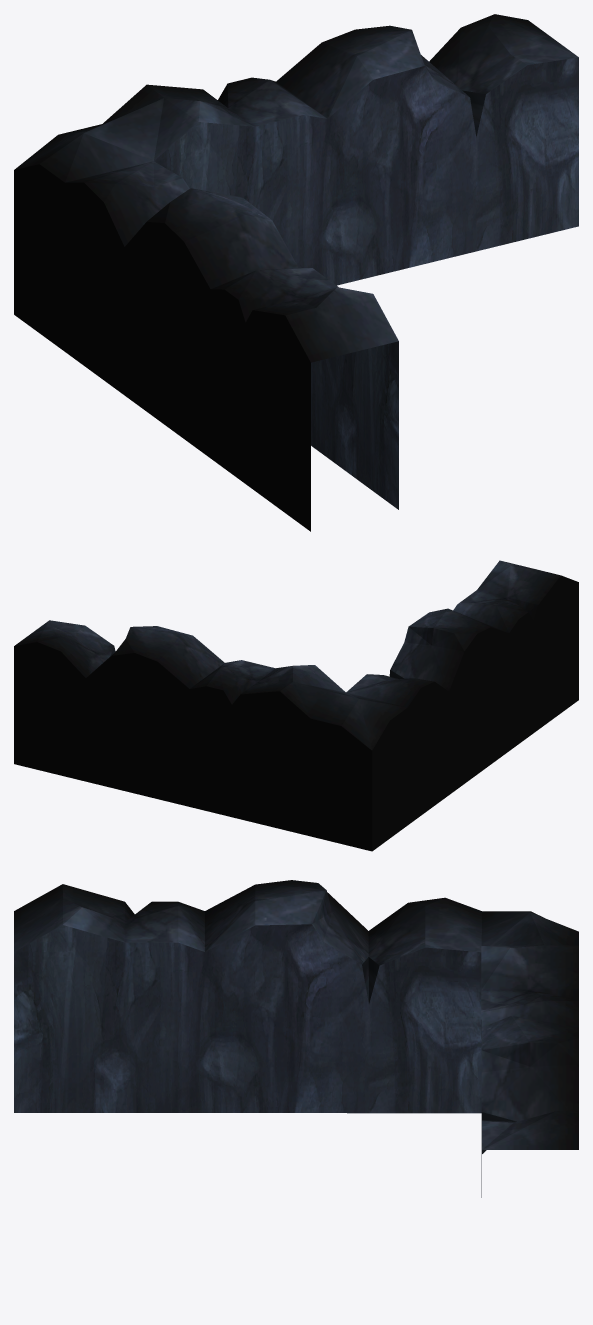
File: mine_broken_concave_01.fbx
The picture shows the model from 3 angles, top to bottom: view 1: azimuth 30°, elevation 25°; view 2: azimuth 150°, elevation 25°; view 3: azimuth 270°, elevation 25°; orthographic projection. The views are drawn at different scales.
Parts seen in each view (by area): view 1: obj2.010; view 2: obj2.010; view 3: obj2.010.
Boxes of the visible parts, left/top/right/bottom form: obj2.010: left=14, top=14, right=578, bottom=531; obj2.010: left=14, top=560, right=578, bottom=851; obj2.010: left=14, top=880, right=578, bottom=1197.
Size of the model in its own units: 4.38 by 1.73 by 4.38.
